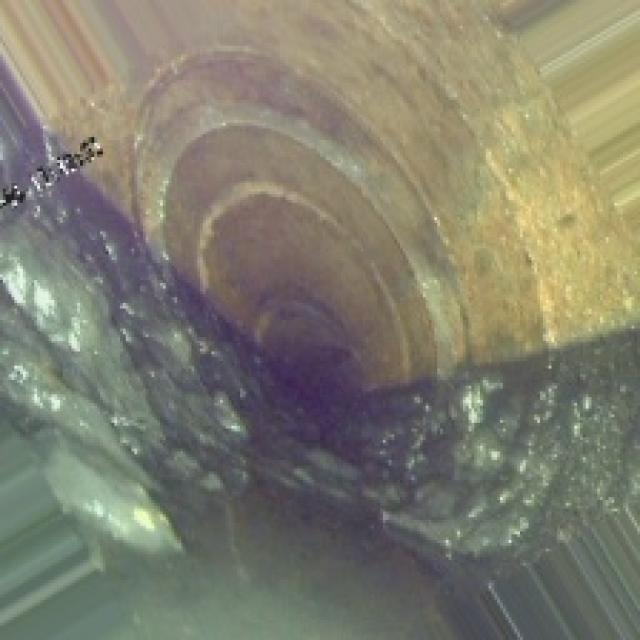sluge accumulation: (32, 220, 617, 623)
